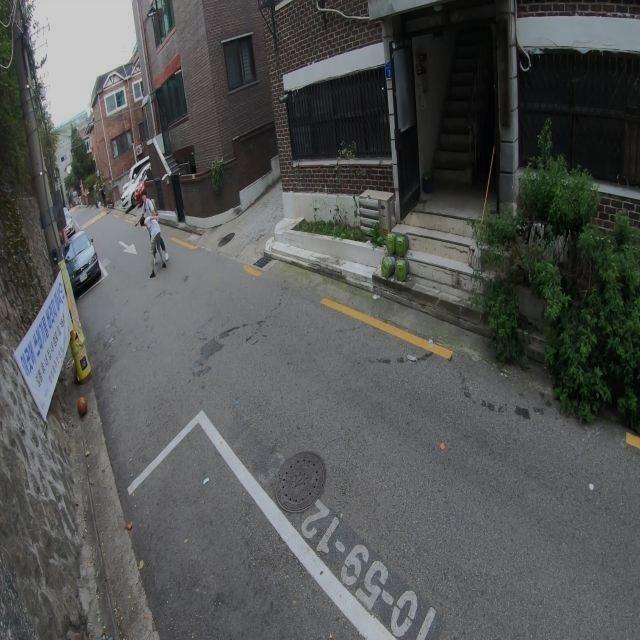fight: (138, 189, 168, 276)
